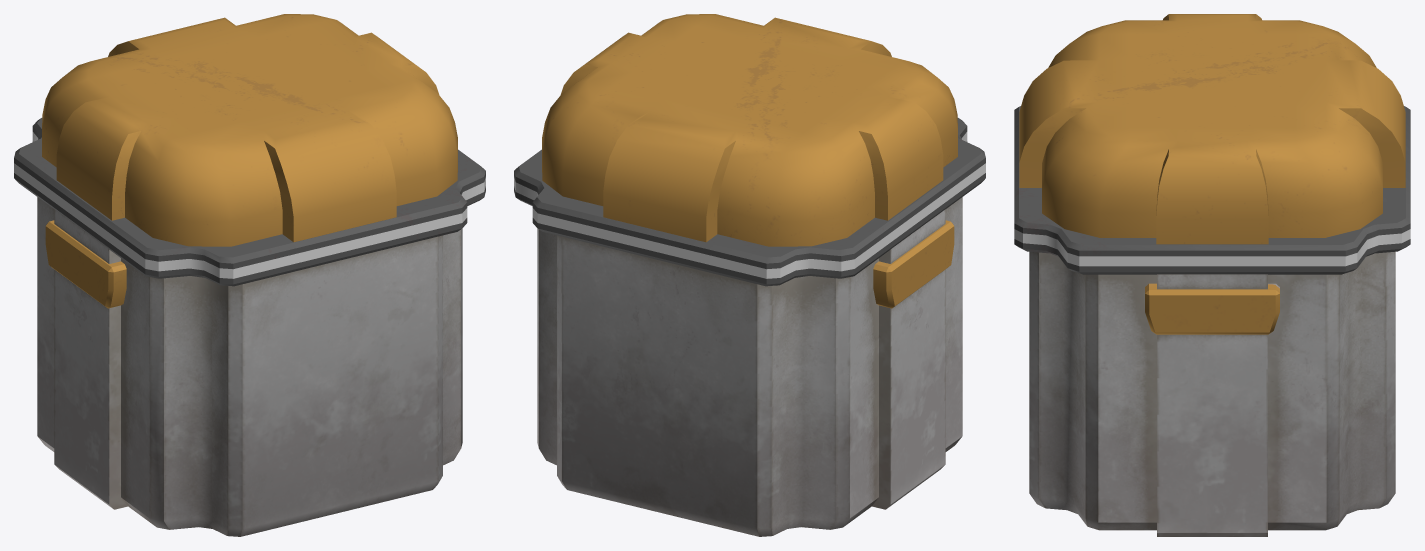
Rendered from Chest.fbx.
3 renders of one model, left to right at view 1: azimuth 30°, elevation 25°; view 2: azimuth 150°, elevation 25°; view 3: azimuth 270°, elevation 25°, orthographic.
Parts seen in each view (by area): view 1: Chest; view 2: Chest; view 3: Chest.
Part boxes in pixels (bbox=[...]): Chest: bbox=[14, 14, 485, 536]; Chest: bbox=[514, 14, 985, 536]; Chest: bbox=[1014, 14, 1410, 536].
Bounding box in the file's own units: 111 × 113 × 108.
